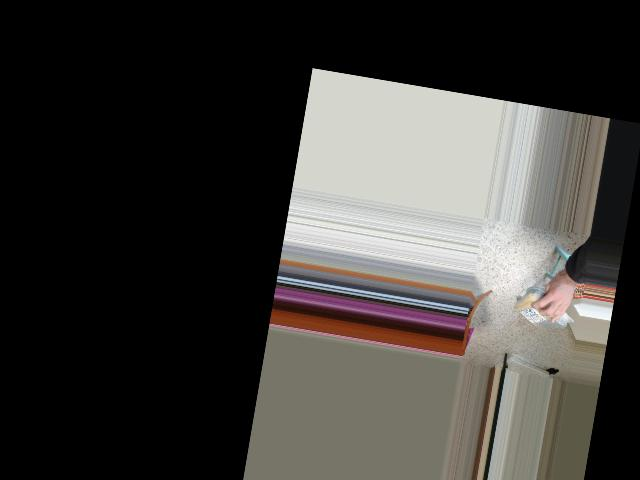cheese: (506, 291, 572, 329)
